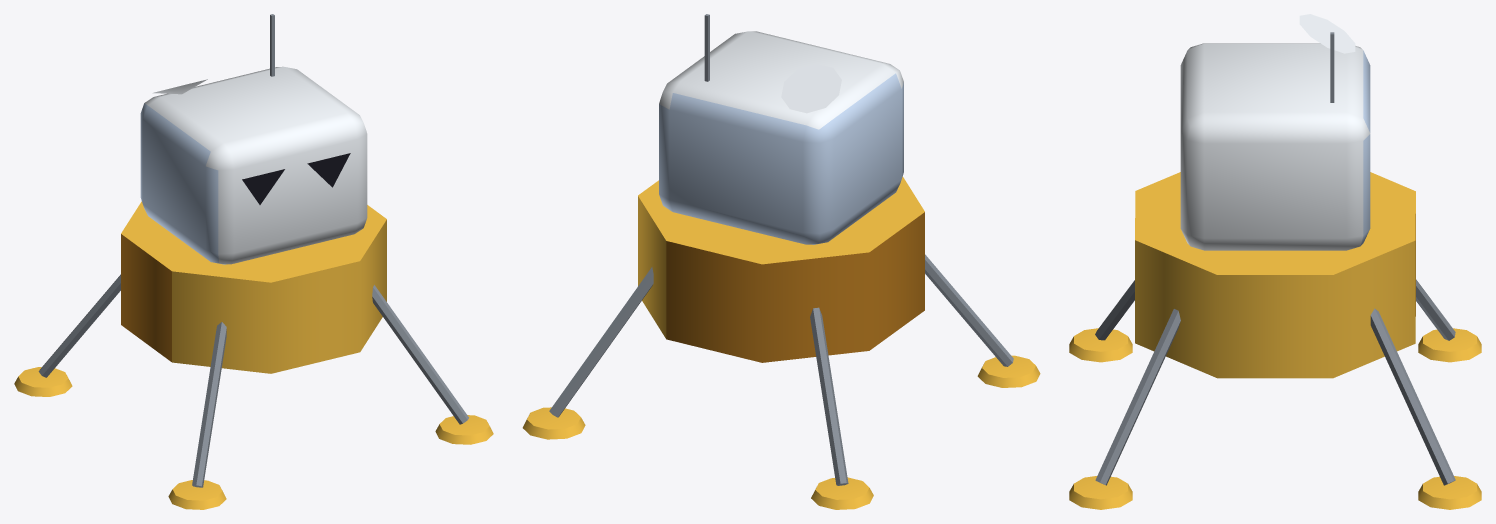
The model's file is Lander.fbx.
3 views of the same model, side by side, from view 1: azimuth 30°, elevation 25°; view 2: azimuth 150°, elevation 25°; view 3: azimuth 270°, elevation 25° (orthographic). The views are drawn at different scales.
Parts seen in each view (by area): view 1: Lander; view 2: Lander; view 3: Lander.
Boxes of the visible parts, <box> form: Lander: <box>14,14,493,509</box>; Lander: <box>522,14,1040,509</box>; Lander: <box>1069,14,1481,509</box>.
Size of the model in its own units: 4.38 by 4.8 by 4.34.
1 material, 1 textured.
